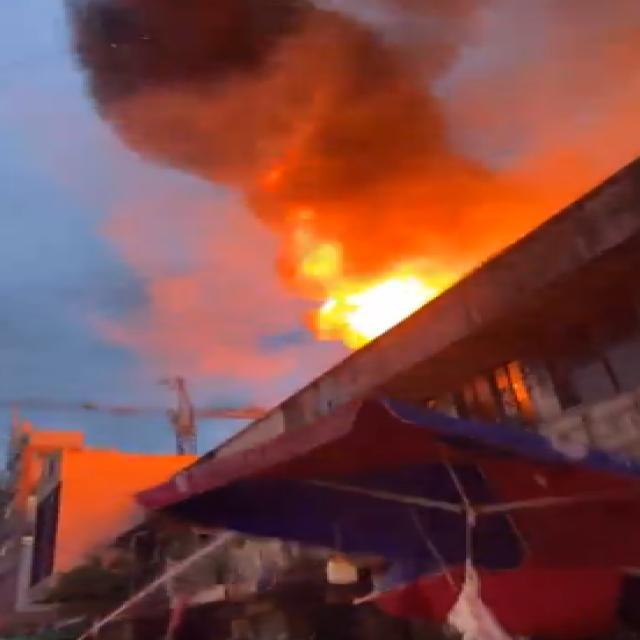Fire: (297, 230, 422, 333)
Smoke: (72, 4, 640, 237), (74, 244, 329, 370)
